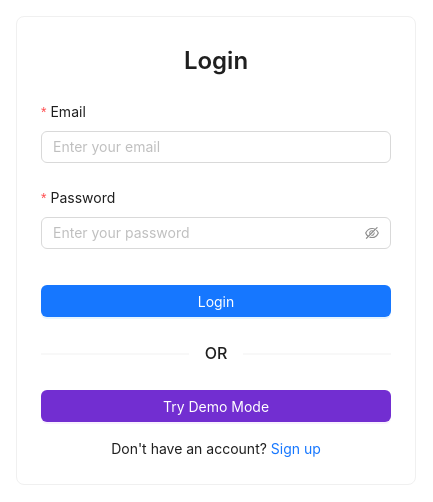
Login Component › displays validation error for short password
This screenshot has width=433, height=502.
Submit with short password
Type "test@example.com" into the field with placeholder "Enter your email" at (216, 147), box left=41, top=131, right=391, bottom=163
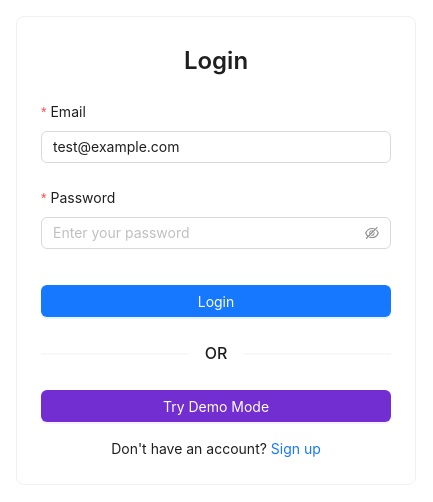
Type "12" into the password field with placeholder "Enter your password" at (207, 233), box left=53, top=222, right=361, bottom=244
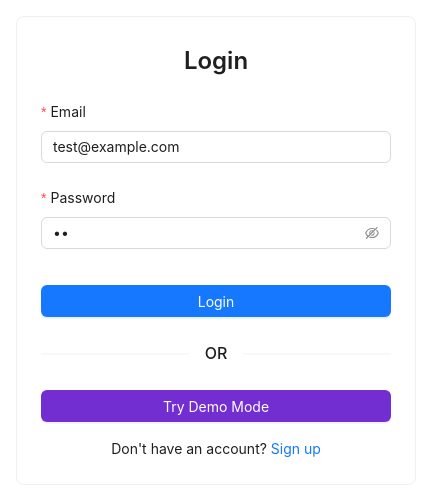
Click the button "Login" at (216, 301), box left=41, top=285, right=391, bottom=317
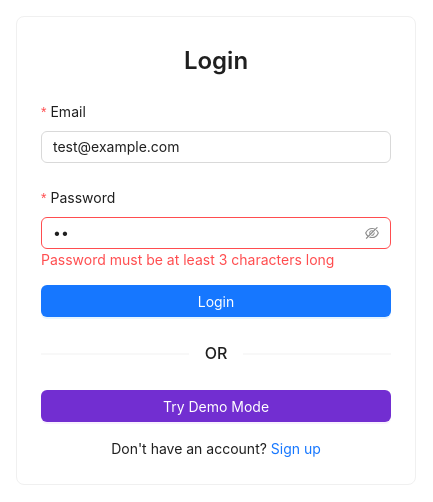
Expected: the text "Password must be at least 3 characters long" is shown, left=41, top=251, right=334, bottom=268
